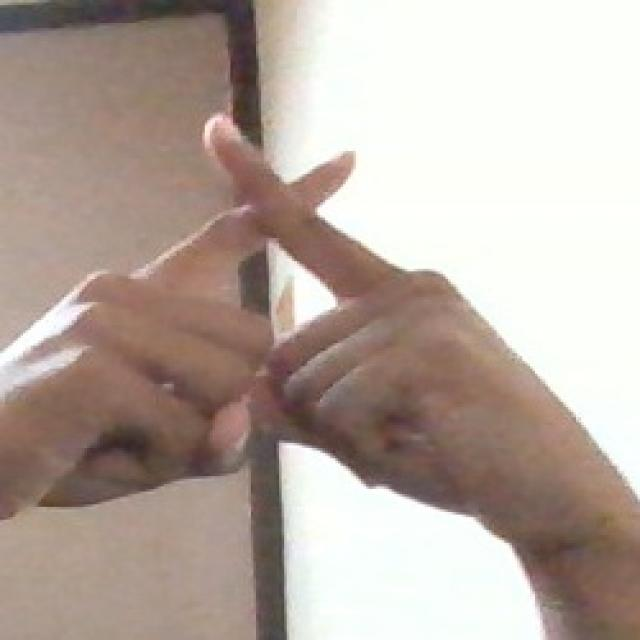Alphabet-X: (5, 106, 570, 540)
